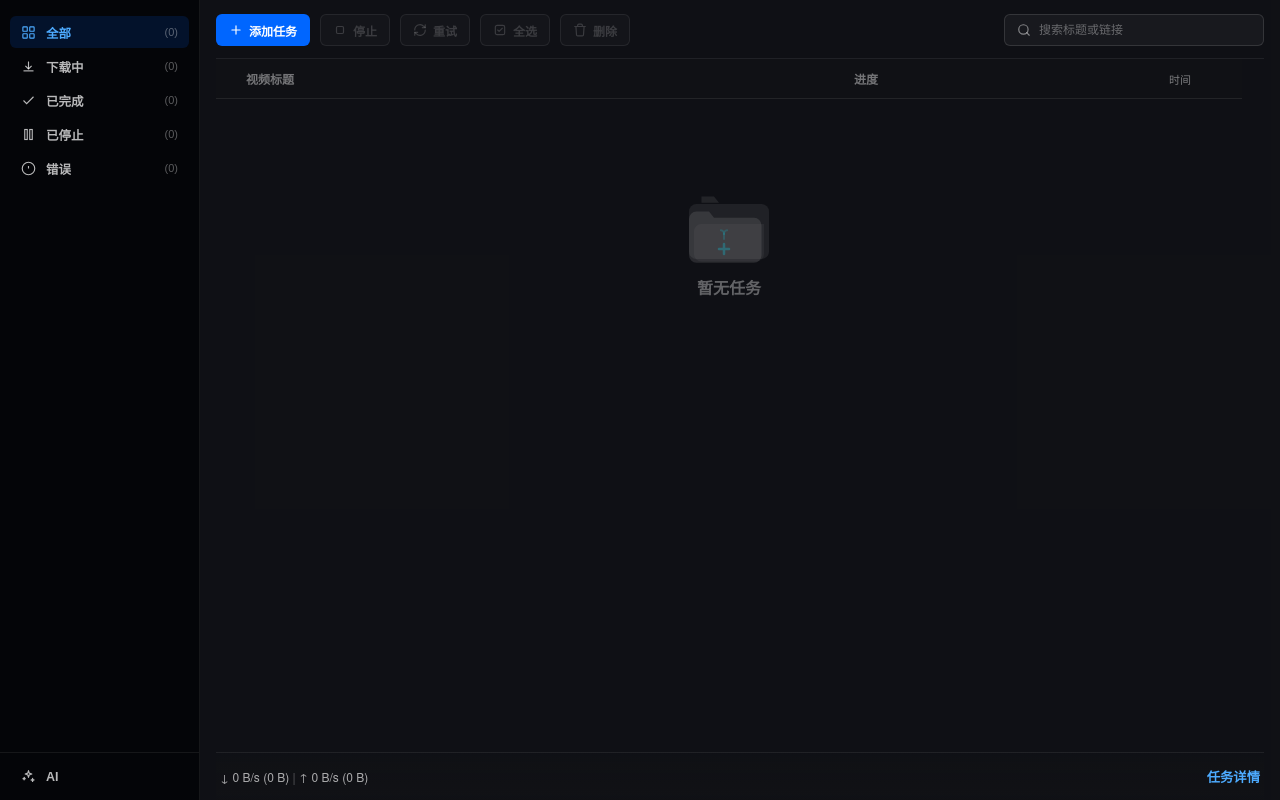
Test case: DownloaderApp interactions › renders readable toolbar, empty state, and add-form labels
Check: the text "暂无任务" is shown, box [697,275,761,299]
Check: the field with placeholder "搜索标题或链接" is shown, box [1039,23,1251,37]
Click the button "添加任务": (263, 30) [216,14,310,46]
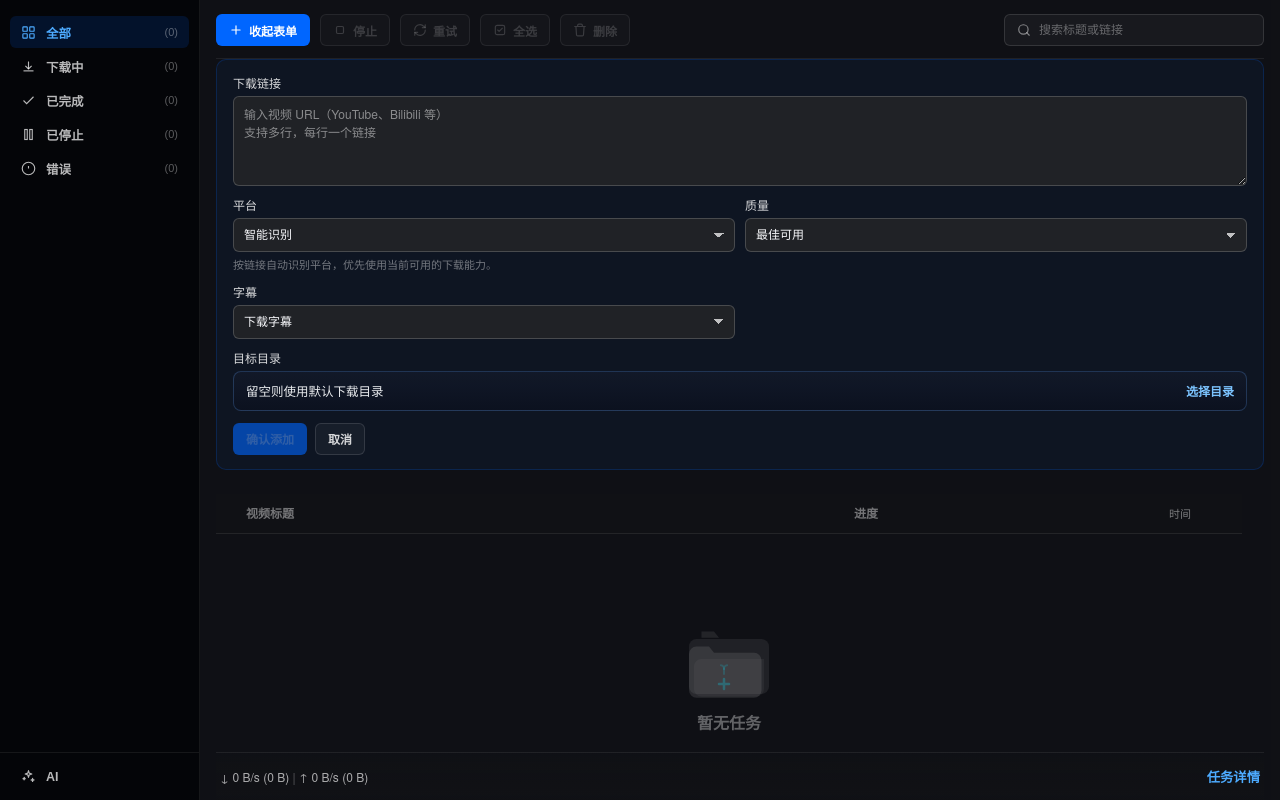
Check: the text "下载链接" is shown, box [233,74,281,91]
Check: the text "平台" is shown, box [233,196,257,213]
Check: the text "质量" is shown, box [745,196,769,213]
